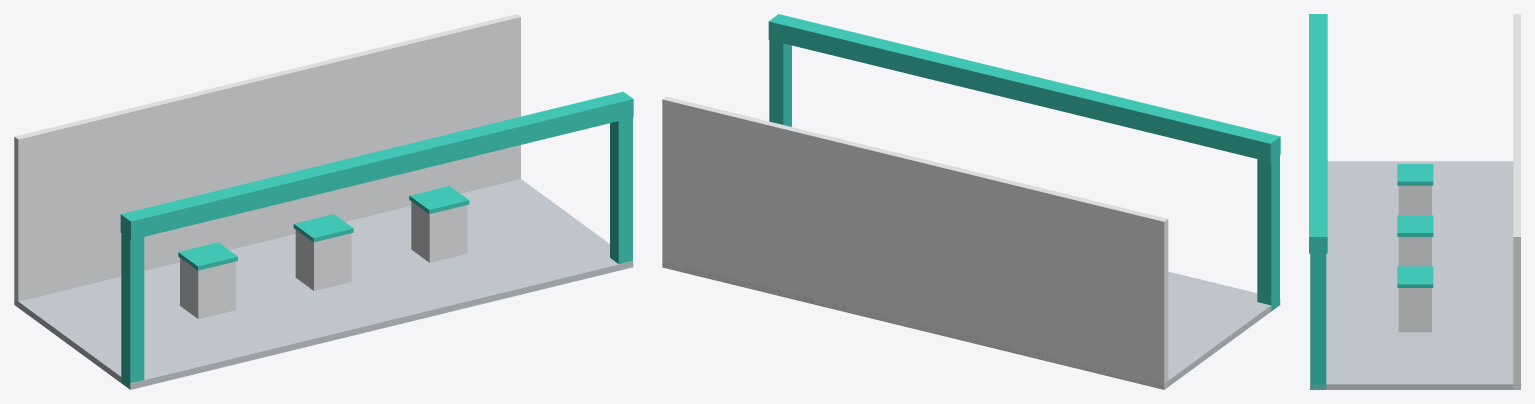
The picture shows the model from 3 angles, left to right: view 1: azimuth 30°, elevation 25°; view 2: azimuth 150°, elevation 25°; view 3: azimuth 270°, elevation 25°; orthographic projection. The views are drawn at different scales.
Visible parts, largest first — view 1: Exhibition Booth Concept; view 2: Exhibition Booth Concept; view 3: Exhibition Booth Concept.
Boxes of the visible parts, <box> form: Exhibition Booth Concept: <box>14,14,633,389</box>; Exhibition Booth Concept: <box>662,14,1280,389</box>; Exhibition Booth Concept: <box>1309,14,1520,389</box>.
Bounding box in the file's own units: 10 × 3.2 × 4.02.
